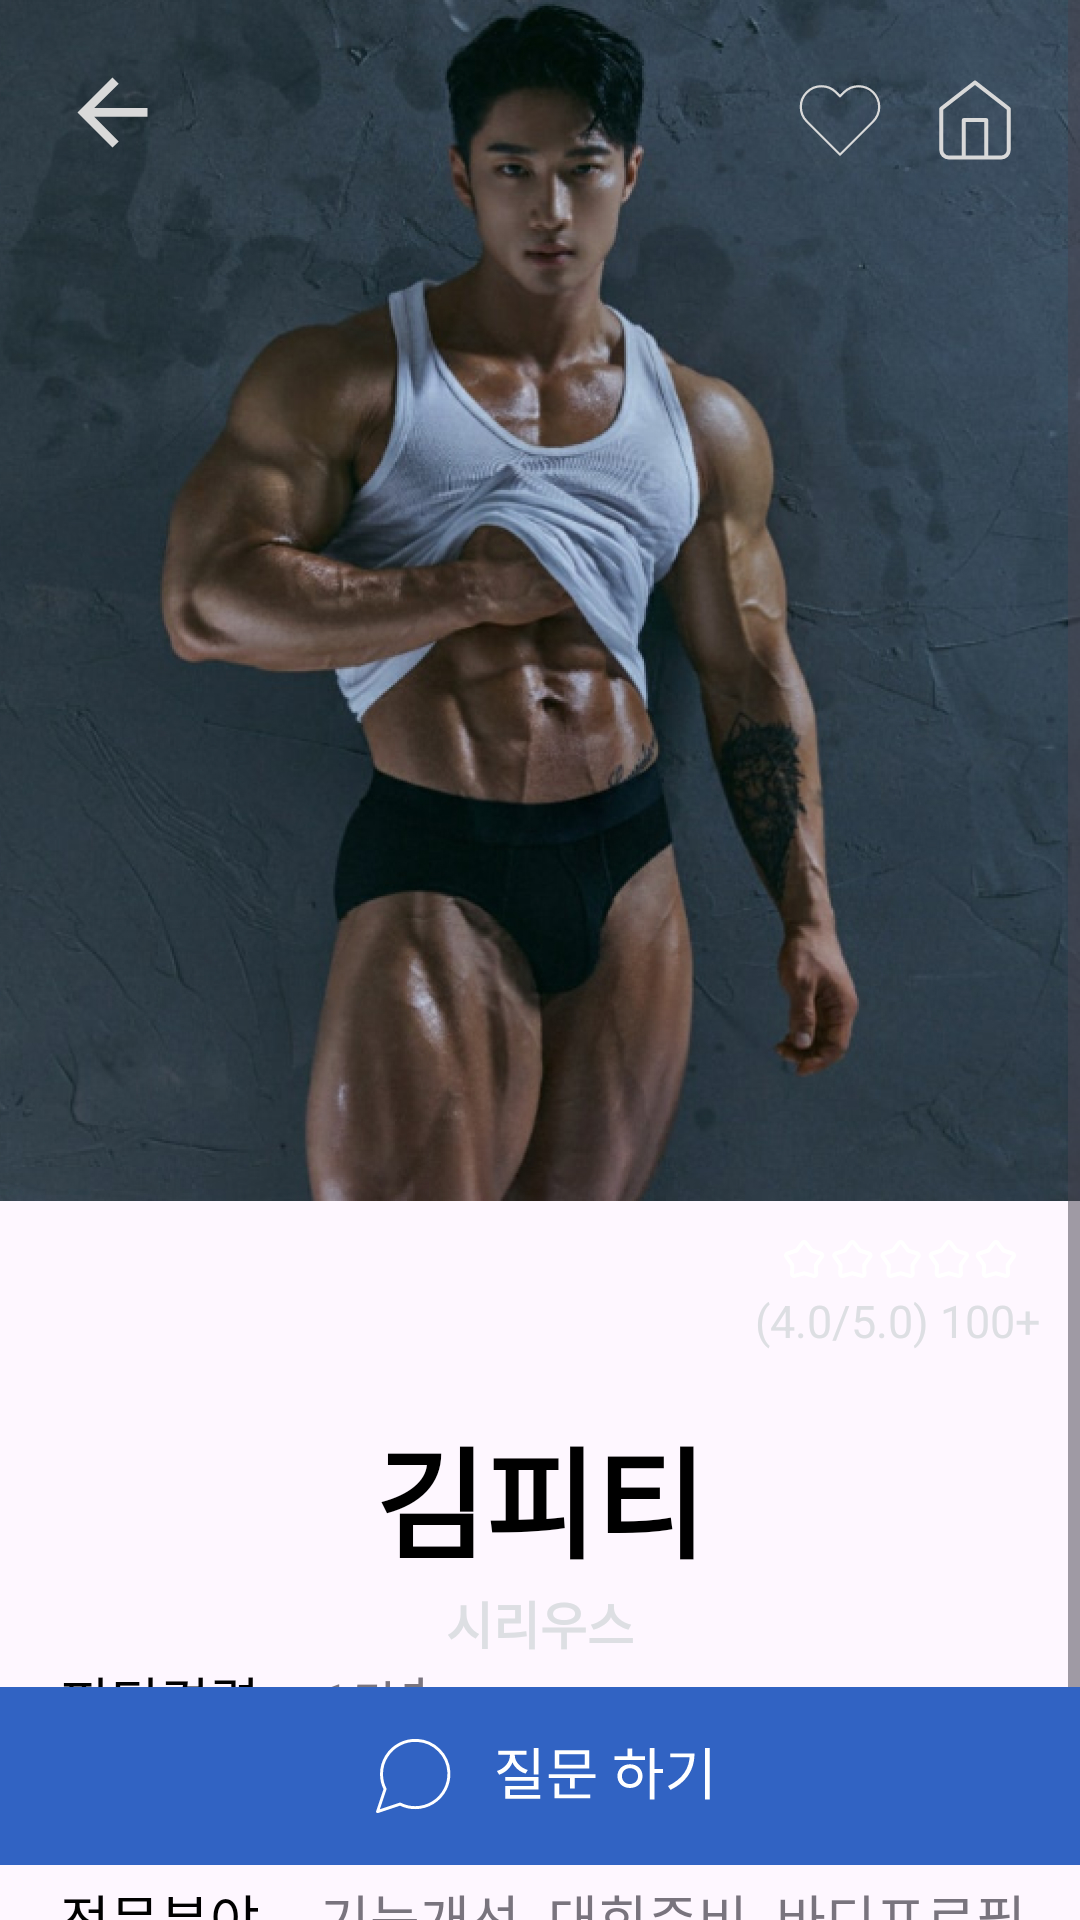

Screen size 1080px x 1920px. Icon name, then its center in pixels as [x,y]:
profile arrow back: [112,112]
profile emptyheart: [840,119]
profile home: [975,120]
